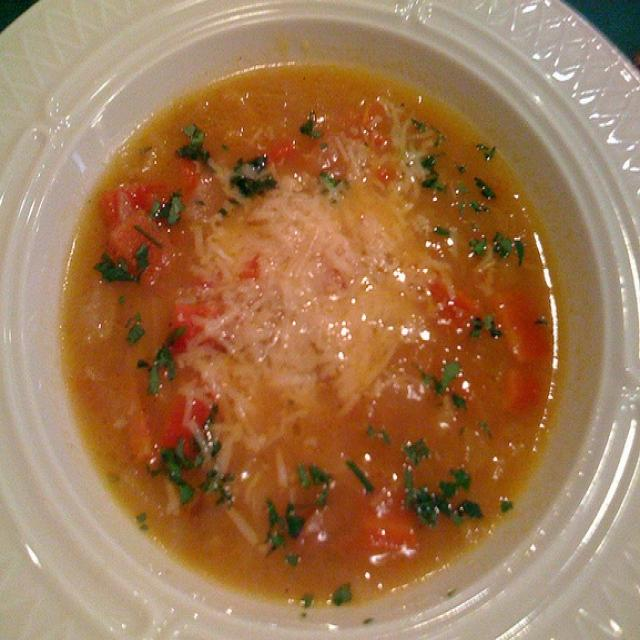汤锅炖物: (8, 5, 633, 631)
